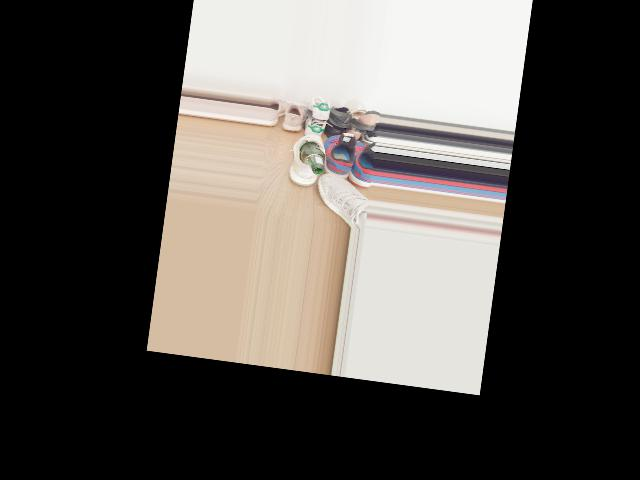beer: (297, 141, 327, 175)
